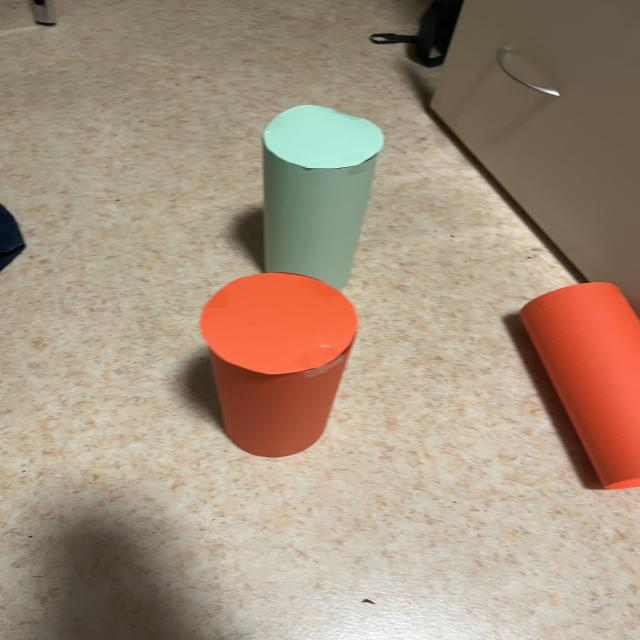meta: (262, 105, 384, 290)
przeszkoda: (199, 273, 357, 457), (520, 282, 640, 489)
